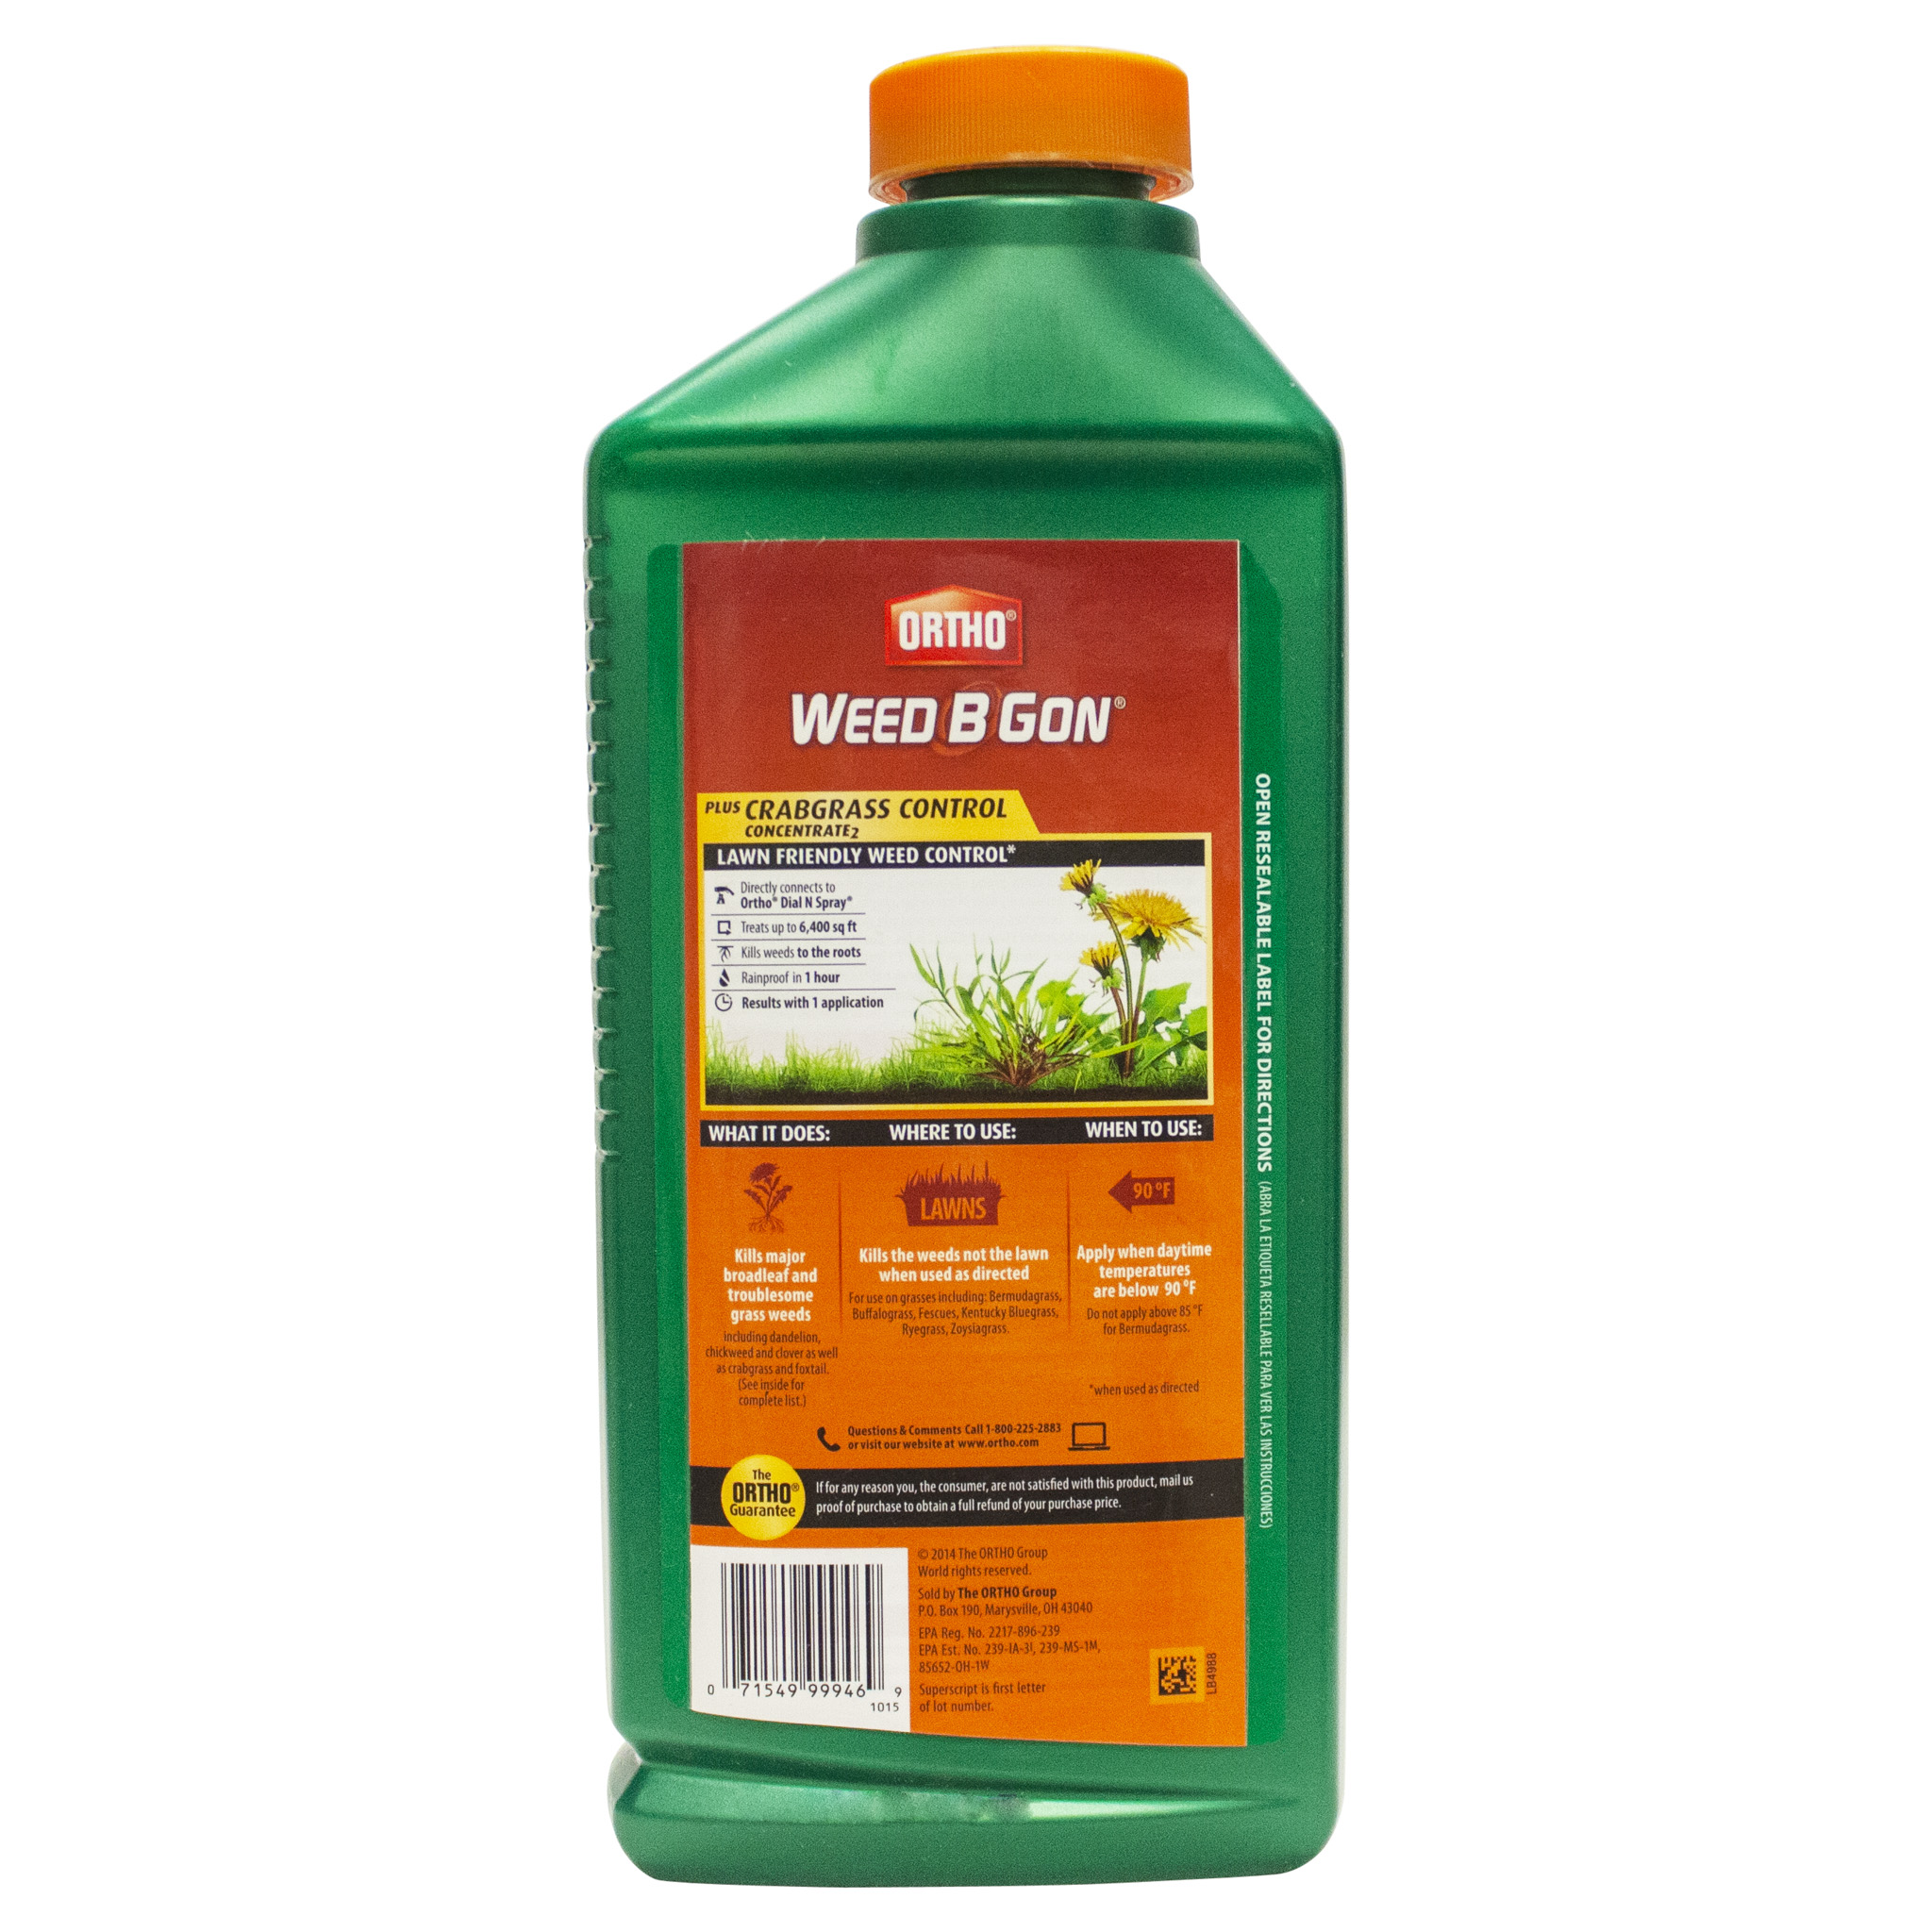crabgrass: (901, 954, 1092, 1092)
